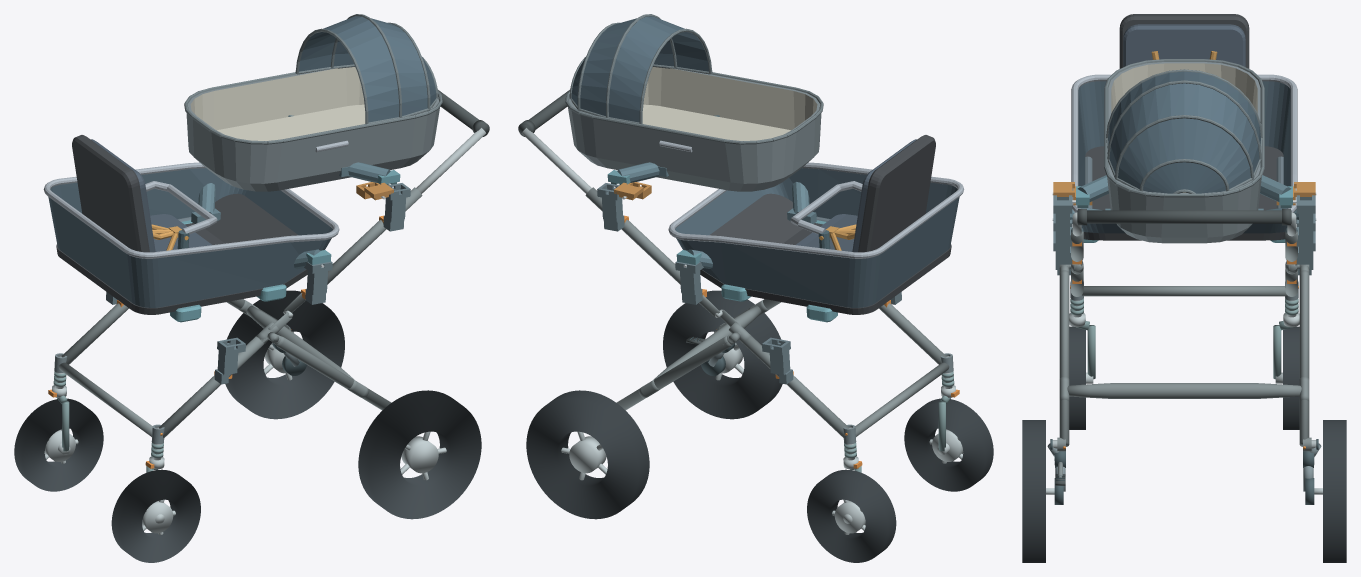
The model's file is D21_w650_state1_wheel_L.glb.
The picture shows the model from 3 angles, left to right: view 1: azimuth 30°, elevation 25°; view 2: azimuth 150°, elevation 25°; view 3: azimuth 270°, elevation 25°; orthographic projection. The views are drawn at different scales.
Parts seen in each view (by area): view 1: D21_Lower, D21_Upper, RL_tire.008, RR_tire.008, FL_tire.008, FR_tire.008, V46_rear_leg_-1.009, main_lower_-1.009, front_fixed_round_tube.008, main_upper_-1.009, D21_Lower_Mount_M, RL_sealed_hub.008 (+9 smaller); view 2: D21_Lower, D21_Upper, RR_tire.008, RL_tire.008, FR_tire.008, FL_tire.008, V46_rear_leg_1.009, main_lower_1.009, front_fixed_round_tube.008, main_upper_1.009, D21_Lower_Mount_M, RR_sealed_hub.008 (+9 smaller); view 3: D21_Upper, D21_Lower, V46_rearbar.009, RL_tire.008, RR_tire.008, round_handle.008, front_fixed_round_tube.008, V46_rear_leg_1.009, V46_rear_leg_-1.009, FL_tire.008, FR_tire.008, D21_Upper_Mount_H (+4 smaller).
Boxes of the visible parts, box(x1,y1,x2,y2) form: D21_Lower: box(43, 135, 339, 322); D21_Upper: box(184, 14, 442, 191); RL_tire.008: box(358, 390, 481, 519); RR_tire.008: box(225, 290, 344, 419); FL_tire.008: box(111, 469, 200, 562); FR_tire.008: box(14, 398, 103, 491); V46_rear_leg_-1.009: box(275, 336, 391, 410); main_lower_-1.009: box(159, 336, 267, 437); front_fixed_round_tube.008: box(58, 362, 152, 436); main_upper_-1.009: box(306, 187, 422, 288); D21_Lower_Mount_M: box(191, 183, 331, 269); RL_sealed_hub.008: box(401, 436, 438, 473); D21_Lower: box(668, 135, 964, 322); D21_Upper: box(565, 14, 823, 191); RR_tire.008: box(526, 390, 649, 519); RL_tire.008: box(663, 290, 782, 419); FR_tire.008: box(807, 469, 896, 562); FL_tire.008: box(904, 398, 993, 491); V46_rear_leg_1.009: box(616, 336, 732, 410); main_lower_1.009: box(740, 336, 848, 437); front_fixed_round_tube.008: box(855, 362, 949, 436); main_upper_1.009: box(585, 187, 701, 288); D21_Lower_Mount_M: box(676, 182, 816, 268); RR_sealed_hub.008: box(569, 436, 606, 473); D21_Upper: box(1104, 59, 1264, 243); D21_Lower: box(1071, 14, 1297, 242); V46_rearbar.009: box(1067, 383, 1301, 398); RL_tire.008: box(1022, 420, 1045, 562); RR_tire.008: box(1323, 420, 1346, 562); round_handle.008: box(1077, 210, 1291, 223); front_fixed_round_tube.008: box(1082, 286, 1286, 296); V46_rear_leg_1.009: box(1299, 270, 1309, 446); V46_rear_leg_-1.009: box(1059, 270, 1069, 446); FL_tire.008: box(1069, 326, 1085, 429); FR_tire.008: box(1283, 326, 1299, 429); D21_Upper_Mount_H: box(1072, 175, 1296, 207).
Bounding box in the file's own units: 1.2 × 1.35 × 0.8171.
